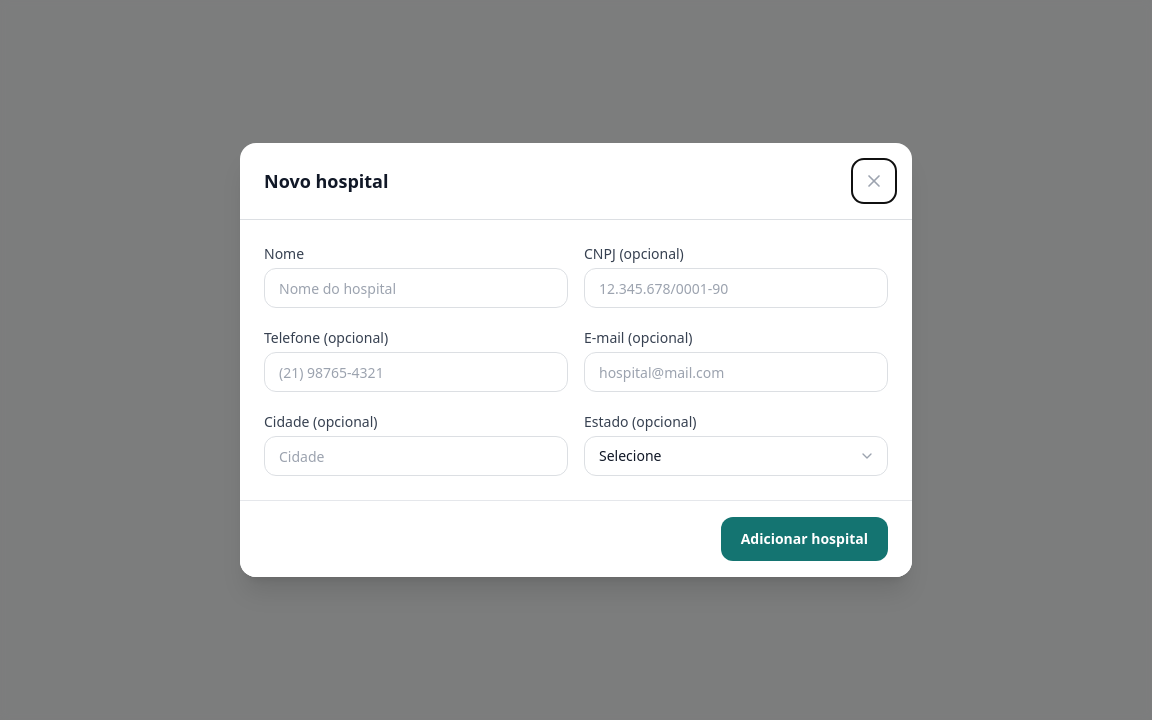
Test: modal de cadastro — hospital › rejeita e-mail inválido com a regra única de validators
Type "Teste Ltda" into the field with placeholder "Nome do hospital".
click(416, 288); type("Teste Ltda")  # box [264,268,568,308]
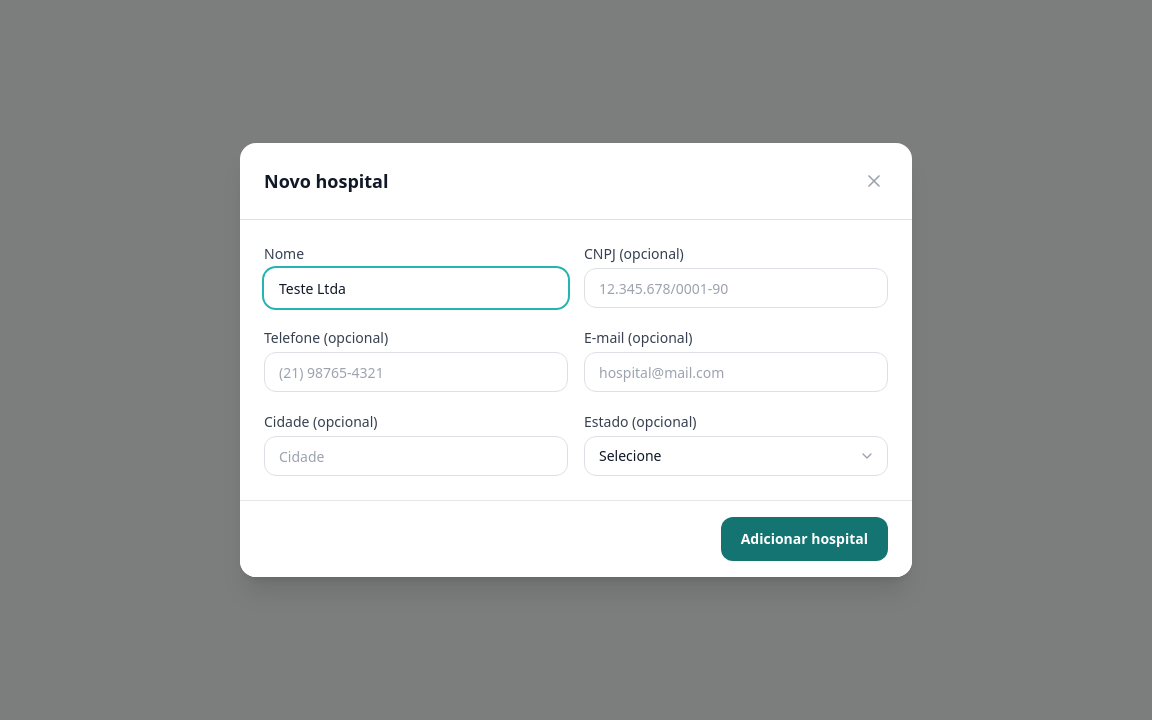
Type "a@b.c" into the field with placeholder "hospital@mail.com".
click(736, 372); type("a@b.c")  # box [584,352,888,392]
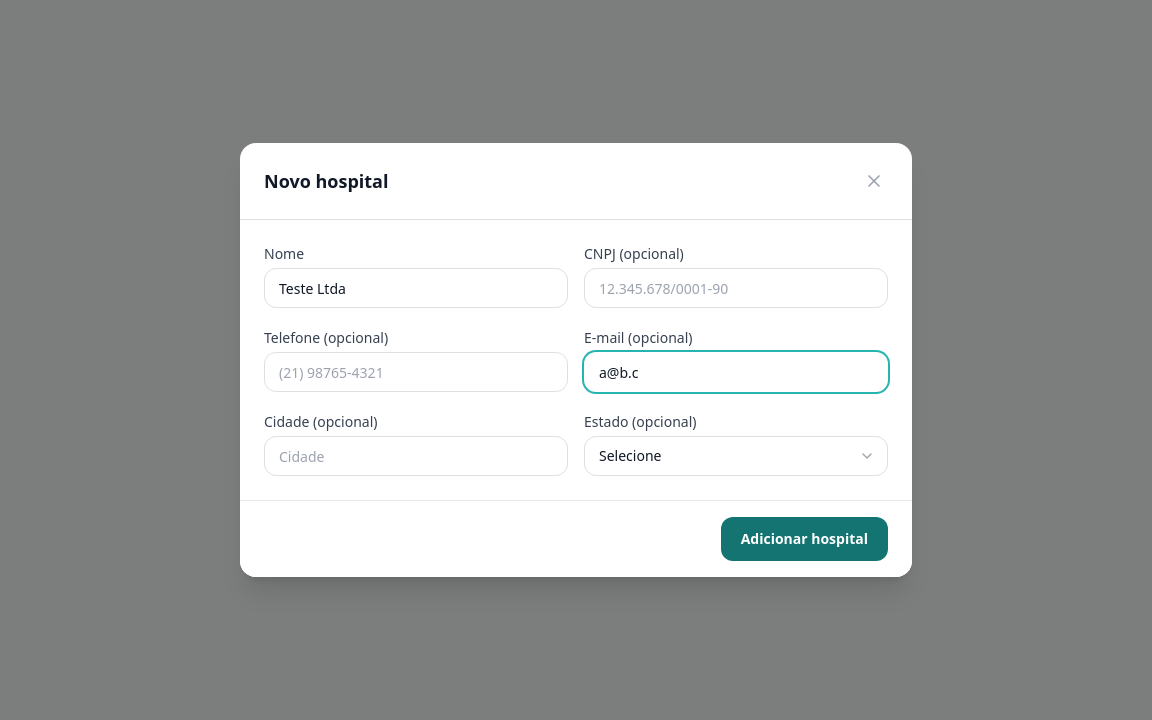
Click the button "Adicionar hospital".
click(804, 539)  # box [721,517,888,561]
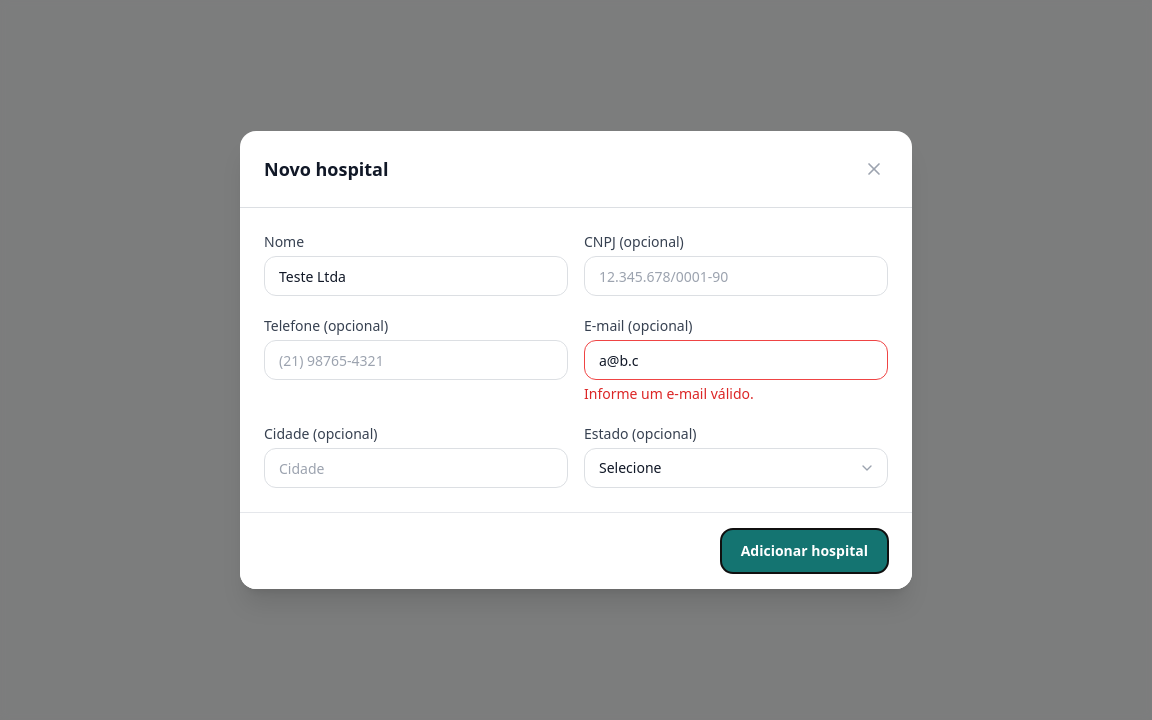
Now the text "Informe um e-mail válido." is shown, box [584,384,754,403]
